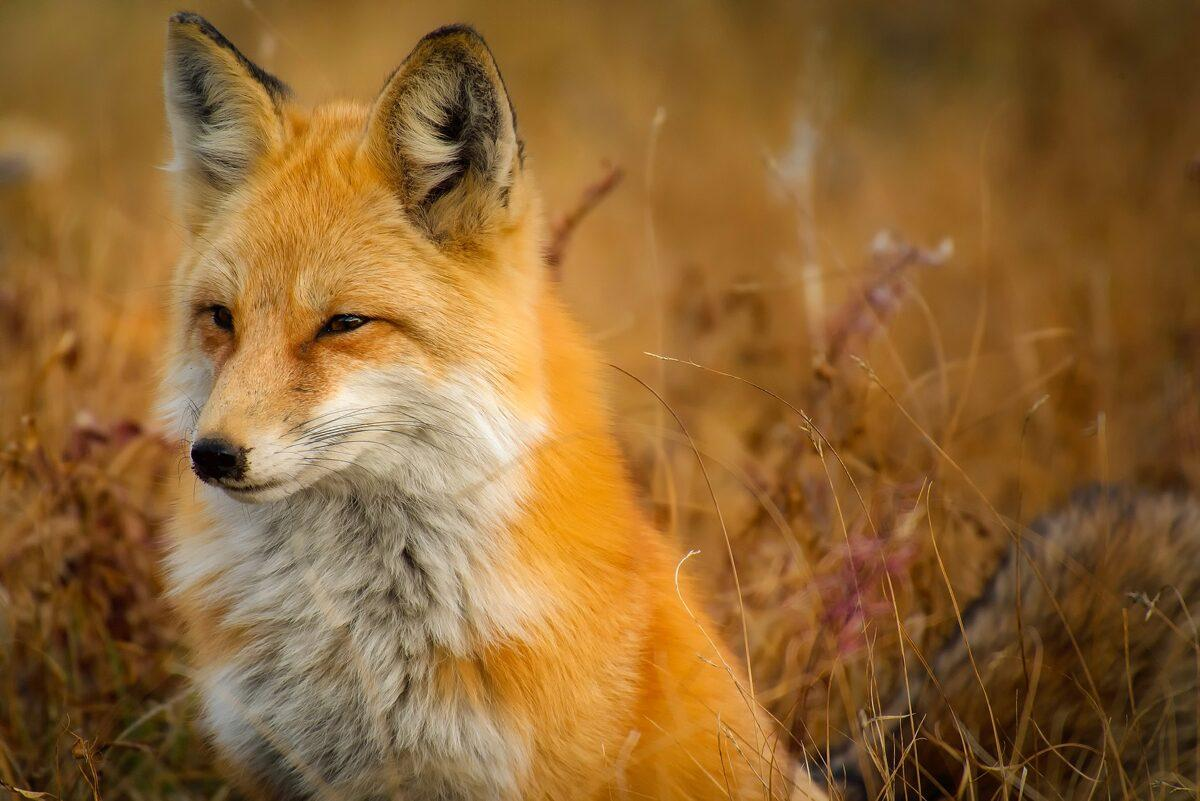fox: (69, 0, 960, 801)
